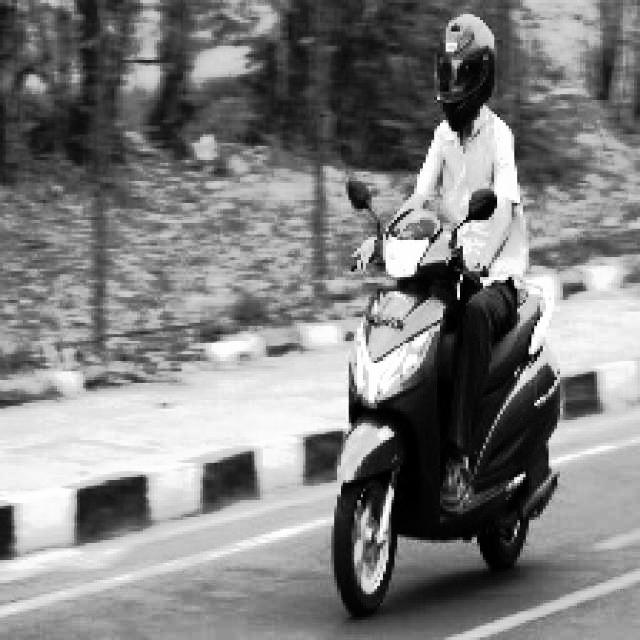Bike: (332, 209, 558, 620)
